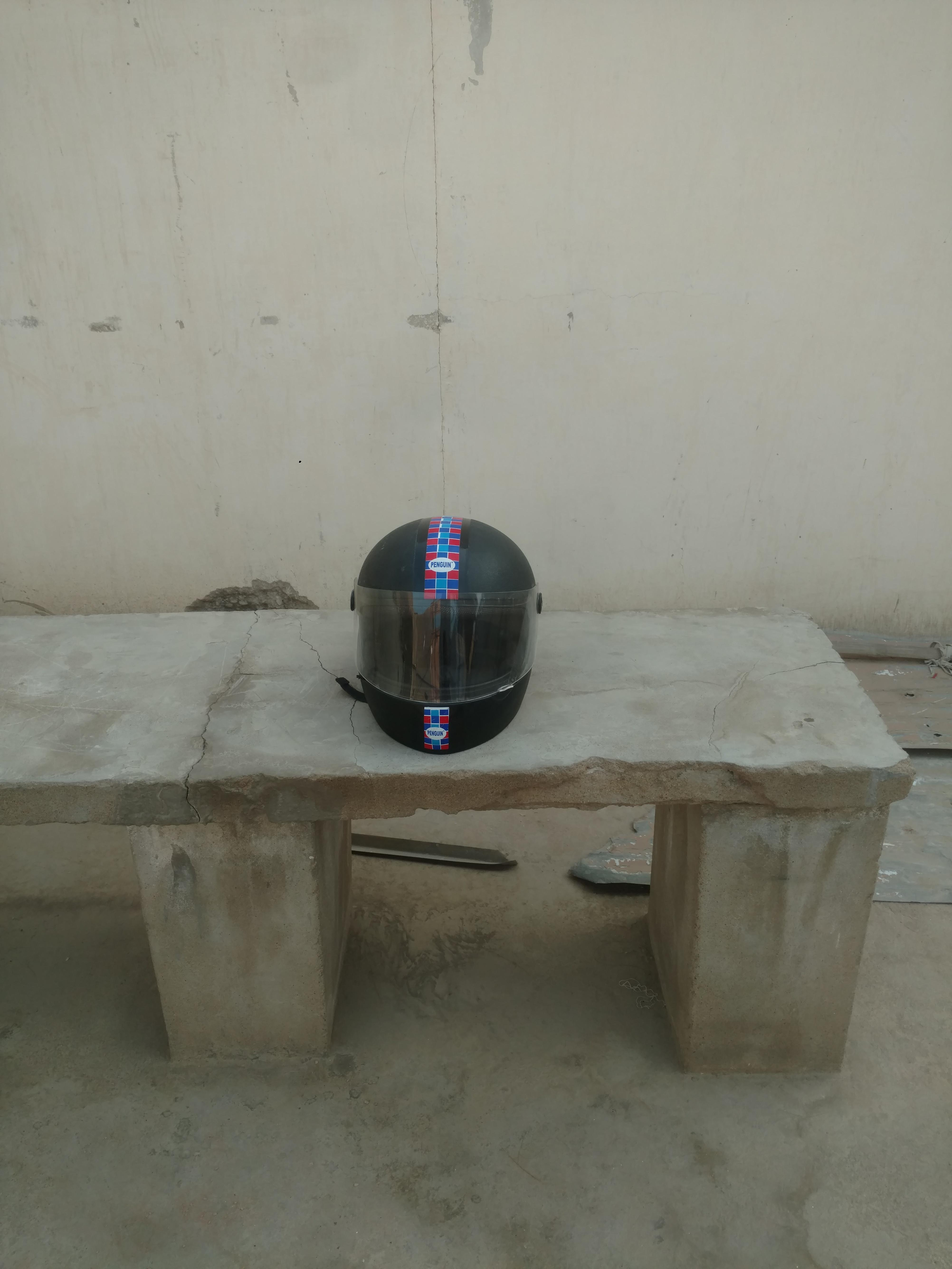helmet: (302, 494, 558, 765)
